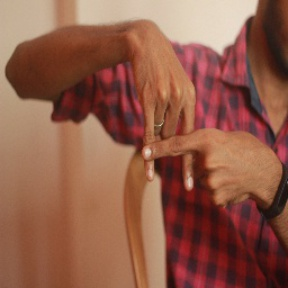H: (119, 94, 225, 200)
